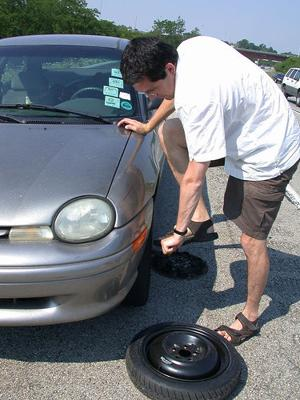person: (116, 34, 300, 346)
